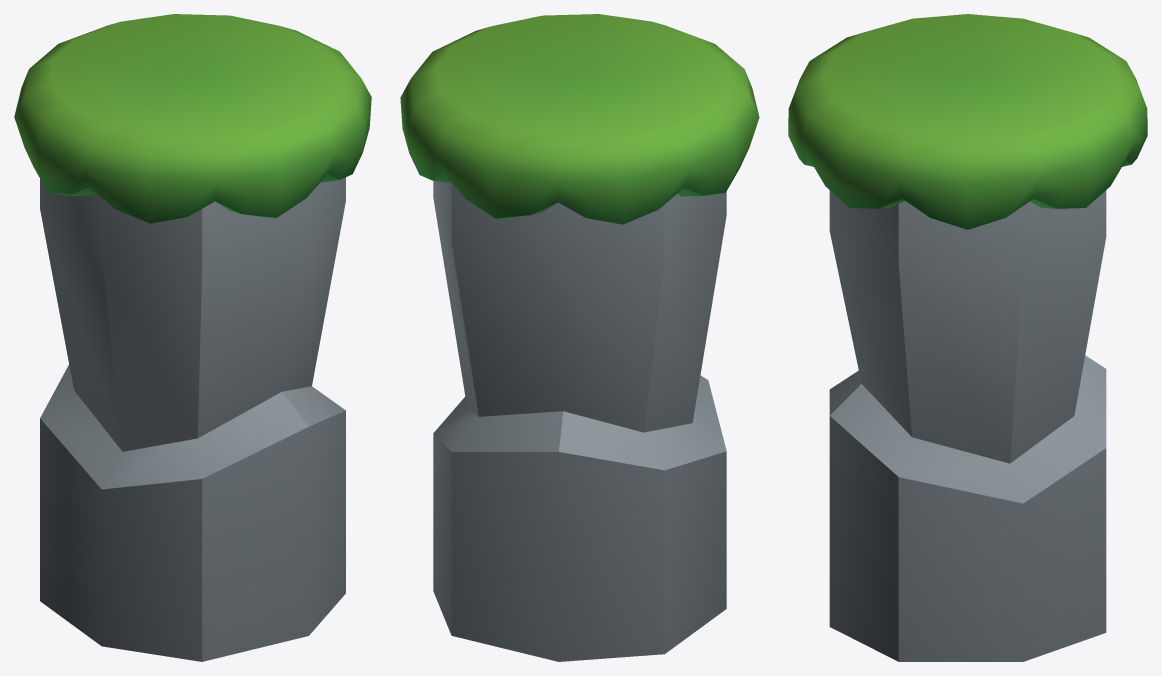
File: Hill_2x2x4_Color1.gltf
The picture shows the model from 3 angles, left to right: view 1: azimuth 30°, elevation 25°; view 2: azimuth 150°, elevation 25°; view 3: azimuth 270°, elevation 25°; orthographic projection.
Parts seen in each view (by area): view 1: Hill_2x2x4_Color1; view 2: Hill_2x2x4_Color1; view 3: Hill_2x2x4_Color1.
Part boxes in pixels (<box>): Hill_2x2x4_Color1: <box>14,14,371,661</box>; Hill_2x2x4_Color1: <box>400,14,759,661</box>; Hill_2x2x4_Color1: <box>788,14,1147,661</box>.
Size of the model in its own units: 2.47 by 4 by 2.47.
Materials: 1 (1 with a texture image).
